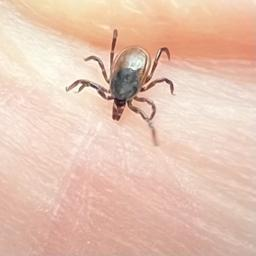Ixodes scapularis: (66, 33, 178, 146)
